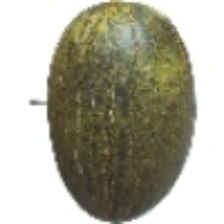honeydew: (46, 0, 194, 197)
